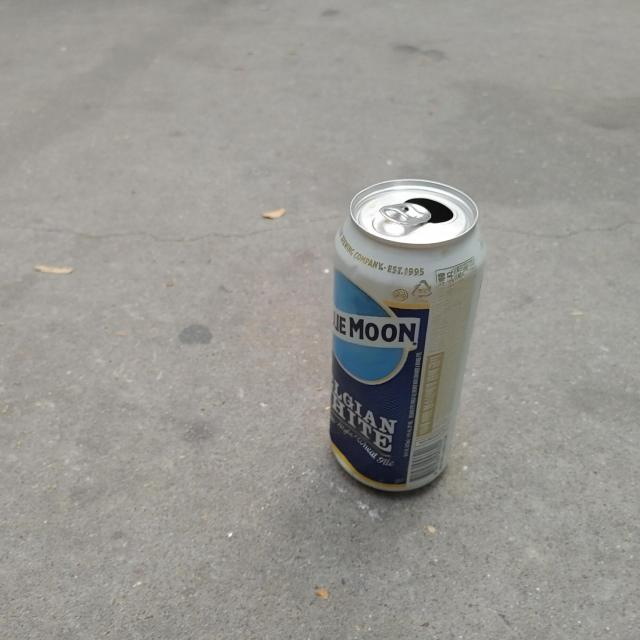can: (330, 179, 485, 492)
